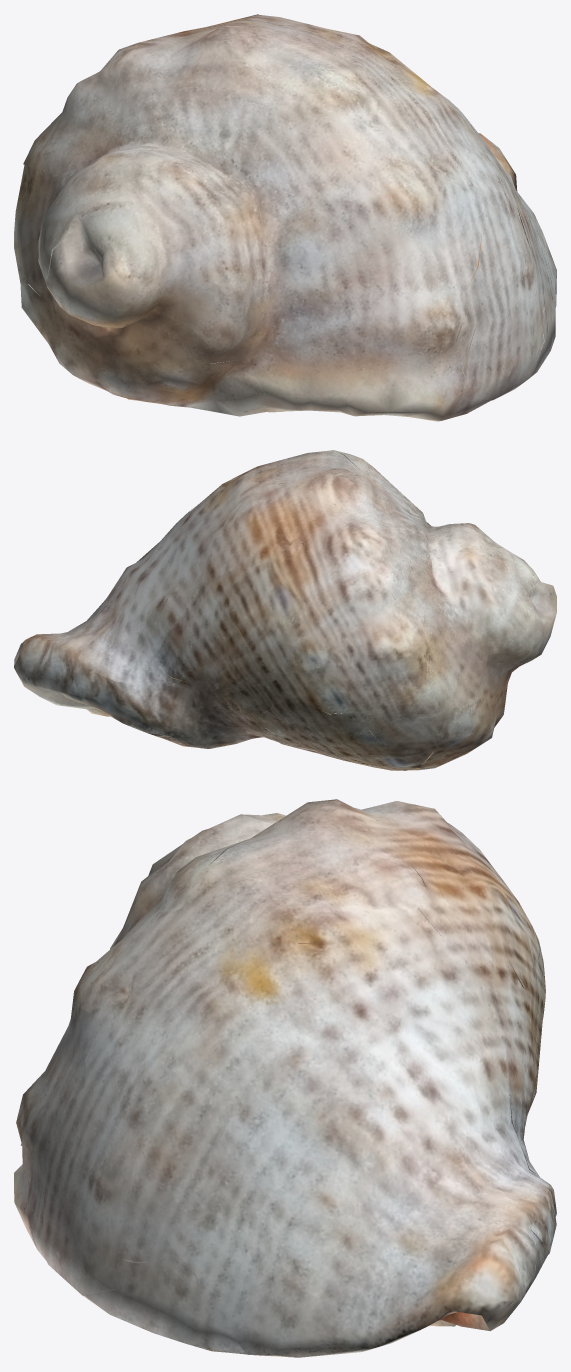
Rendered from whelk-medium.glb.
3 views of the same model, one above another, from view 1: azimuth 30°, elevation 25°; view 2: azimuth 150°, elevation 25°; view 3: azimuth 270°, elevation 25° (orthographic). The views are drawn at different scales.
Parts seen in each view (by area): view 1: Whelk; view 2: Whelk; view 3: Whelk.
Boxes of the visible parts, left/top/right/bottom form: Whelk: left=14, top=14, right=556, bottom=421; Whelk: left=14, top=450, right=556, bottom=770; Whelk: left=14, top=799, right=556, bottom=1357.
Size of the model in its own units: 1.11 by 0.6509 by 0.8085.
Materials: 1 (1 with a texture image).
